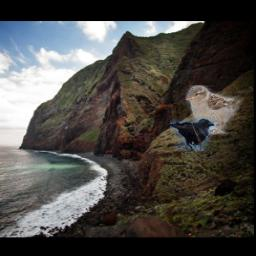Crow: (171, 117, 216, 151)
Sparrow: (186, 85, 253, 134)
